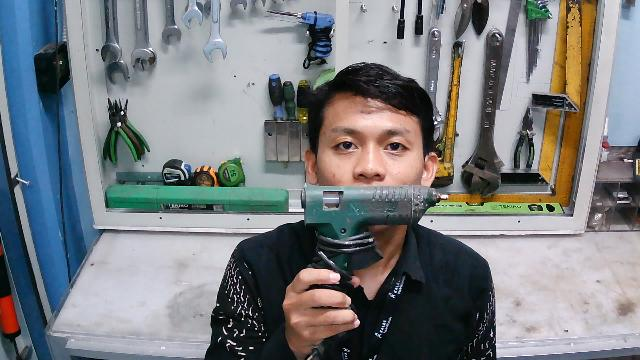gun_lem: (297, 181, 450, 291)
